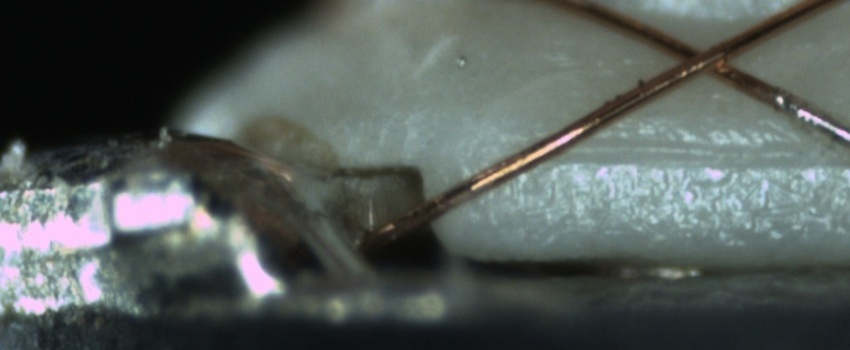CL: (662, 29, 751, 86)
DL: (514, 120, 849, 179)
